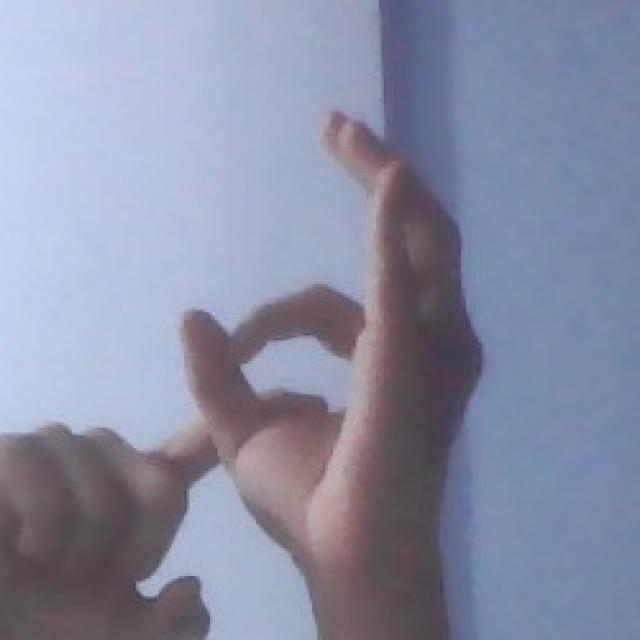Alphabet-Q: (0, 71, 491, 640)
